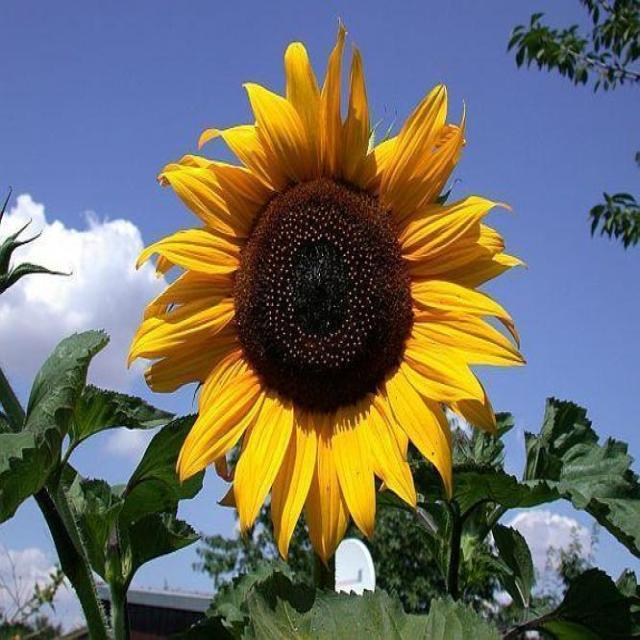sunflower: (135, 26, 530, 558)
